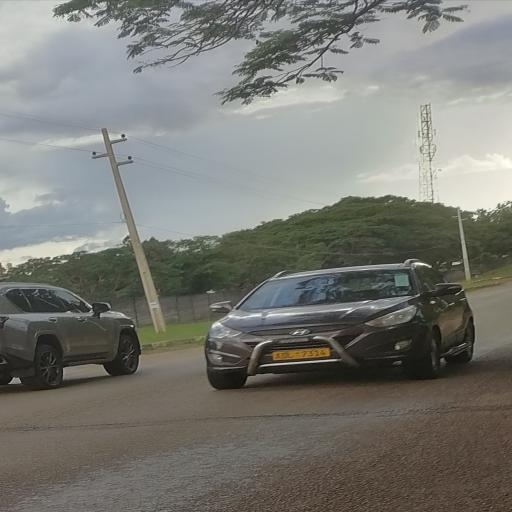number-plates: (268, 347, 335, 362)
